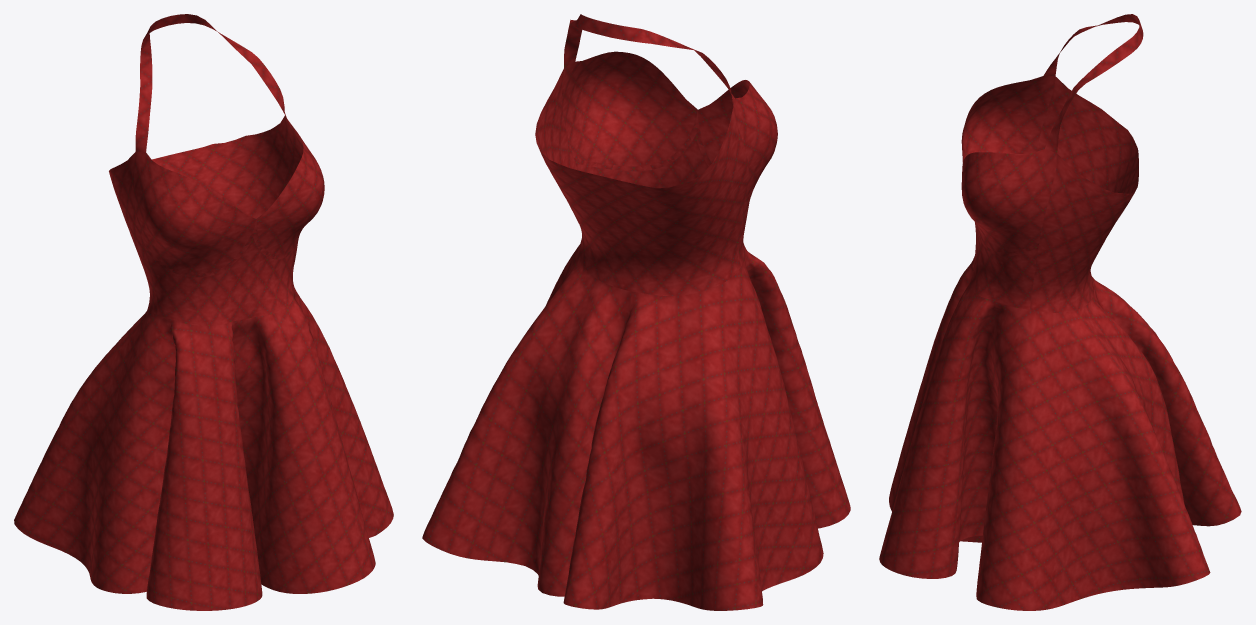
Rendered from heavy_worn_jacket.glb.
3 views of the same model, side by side, from view 1: azimuth 30°, elevation 25°; view 2: azimuth 150°, elevation 25°; view 3: azimuth 270°, elevation 25° (orthographic). The views are drawn at different scales.
Visible parts, largest first — view 1: Object_2, Object_4, Object_3; view 2: Object_2, Object_4, Object_3; view 3: Object_2, Object_4, Object_3.
Part boxes in pixels (x1,y1,x2,y2): Object_2: (14, 287, 393, 610); Object_4: (109, 116, 324, 325); Object_3: (135, 14, 286, 152); Object_2: (422, 244, 850, 610); Object_4: (535, 51, 777, 295); Object_3: (564, 14, 734, 105); Object_2: (879, 261, 1241, 610); Object_4: (961, 75, 1138, 312); Object_3: (1043, 14, 1143, 152).
Size of the model in its own units: 40.83 by 63.86 by 40.35.
Materials: 3 (3 with a texture image).
